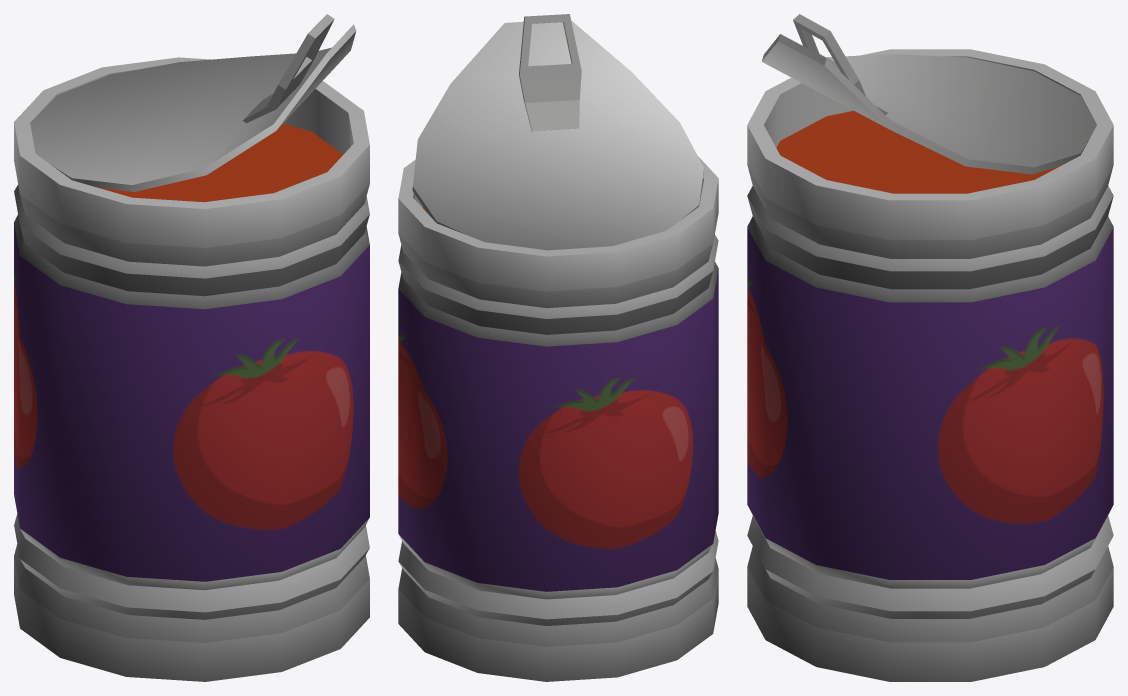
File: 3D_Chopper_Items_Tomato_juice.fbx
3 views of the same model, side by side, from view 1: azimuth 30°, elevation 25°; view 2: azimuth 150°, elevation 25°; view 3: azimuth 270°, elevation 25° (orthographic). The views are drawn at different scales.
Visible parts, largest first — view 1: 3D_Chopper_Items_Tomato_juice; view 2: 3D_Chopper_Items_Tomato_juice; view 3: 3D_Chopper_Items_Tomato_juice.
Part boxes in pixels (x1=…): 3D_Chopper_Items_Tomato_juice: x1=14, y1=14, x2=369, y2=681; 3D_Chopper_Items_Tomato_juice: x1=398, y1=14, x2=718, y2=681; 3D_Chopper_Items_Tomato_juice: x1=747, y1=14, x2=1113, y2=681.
Size of the model in its own units: 27.49 by 52.47 by 28.2.
